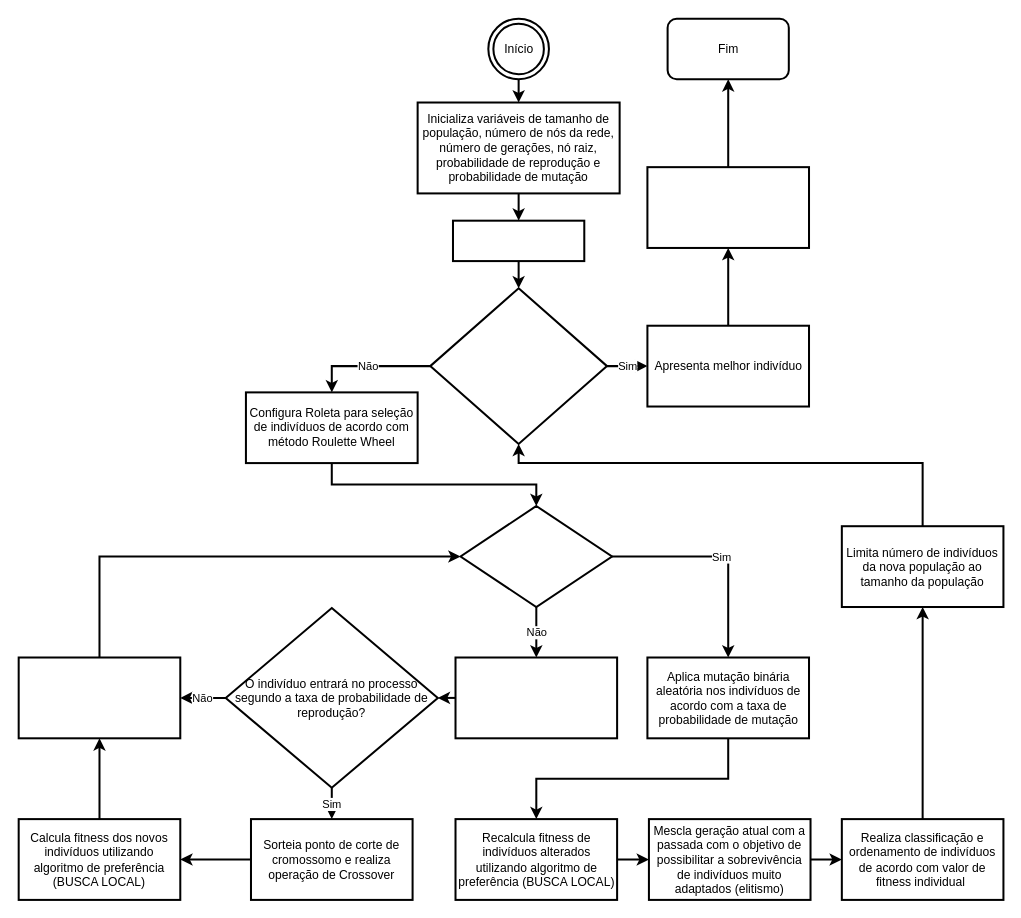
The diagram is 1021 pixels wide and 918 high, and some of its shapes have lost their labels. Here are the shapes that lost their labels. From the top down, the centre of each, then its label:
the point at 728,207: Calcula percentual de melhoria com relação à opção original
the point at 518,240: Cria geração inicial
the point at 518,365: O número de gerações foi alcançado?
the point at 536,556: A nova geração está completa?
the point at 99,697: Inclui indivíduos em nova população
the point at 536,697: Seleciona indivíduos para reprodução de acordo com o método Roulette Wheel
